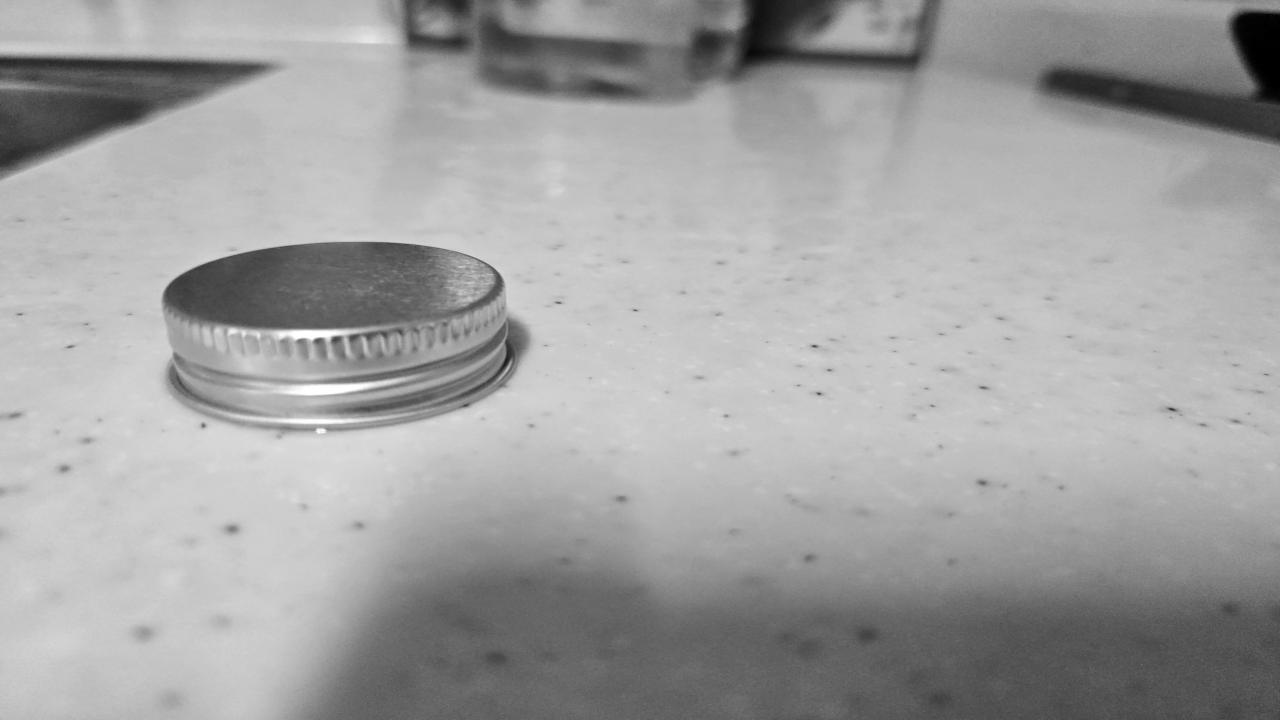bottle_cap: (158, 238, 525, 433)
